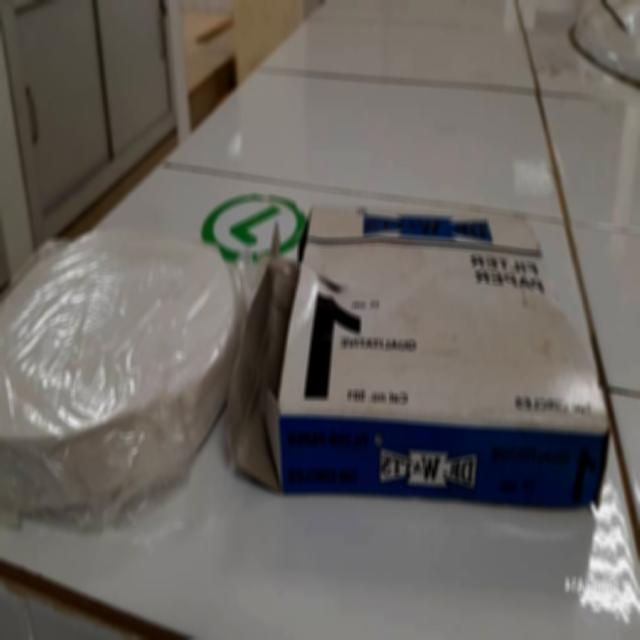Filter paper: (6, 209, 574, 521)
